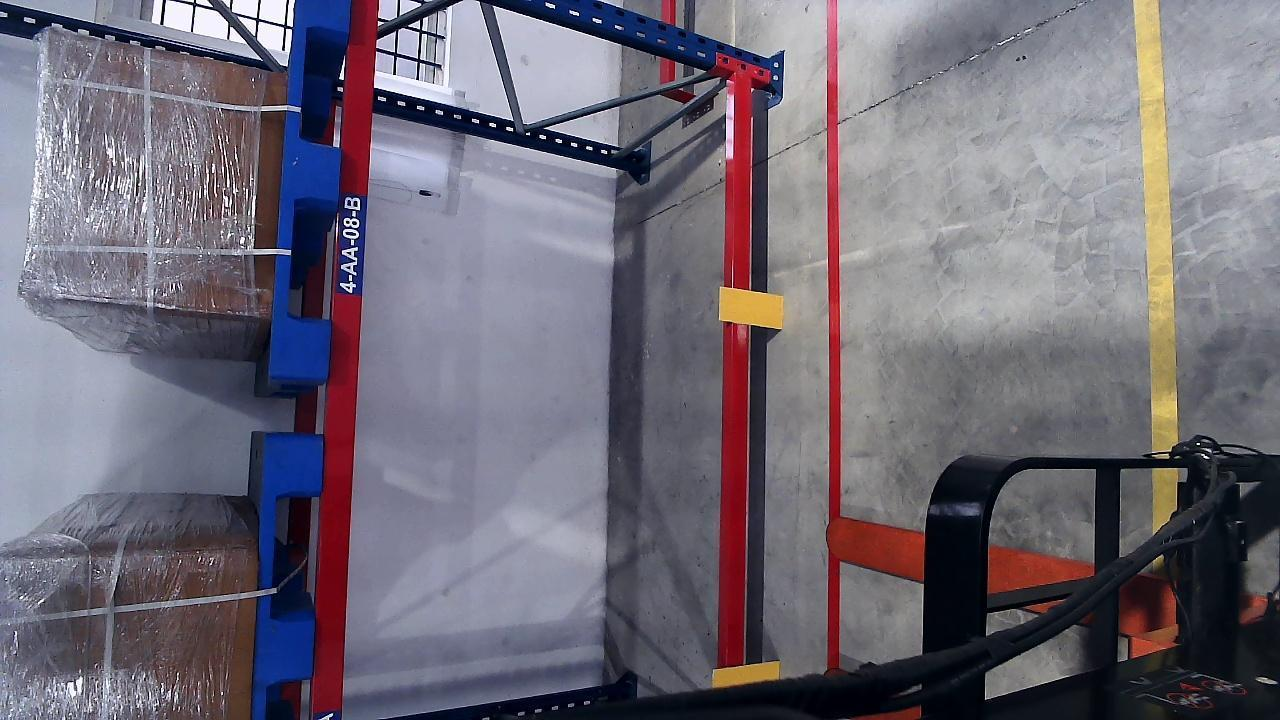red_line: (821, 0, 842, 665)
yellow_line: (1134, 0, 1181, 454)
